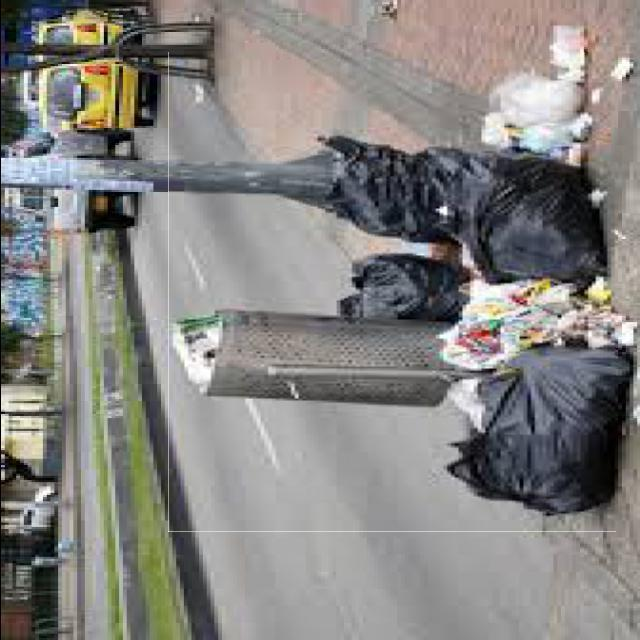Trashbag: (446, 335, 636, 523), (463, 155, 604, 287), (326, 133, 470, 242), (333, 251, 473, 329)
